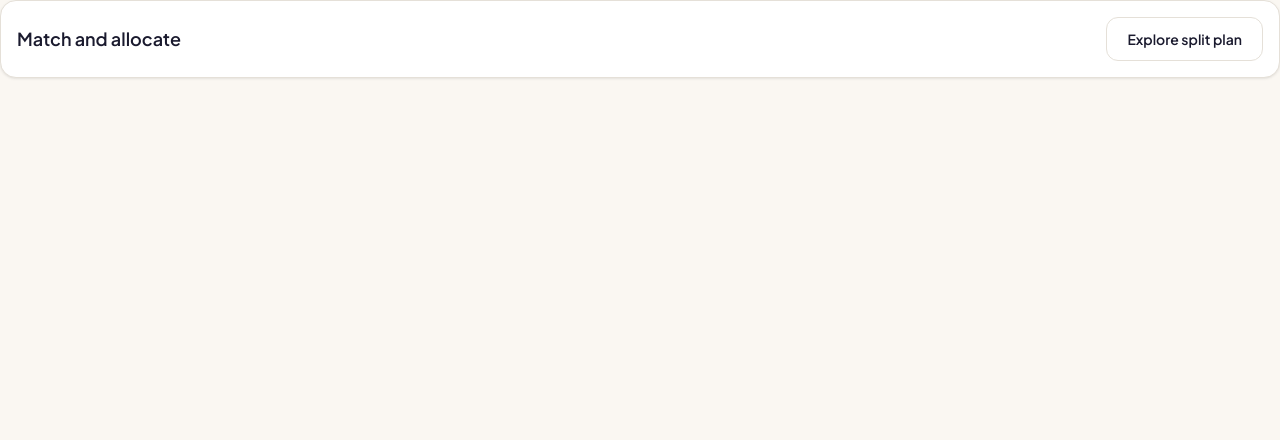
Test: Allocation puzzle controls › splits a batch across capable receivers and selects them together
Click the button "Explore split plan" at (1185, 39), box [1106, 17, 1263, 61]
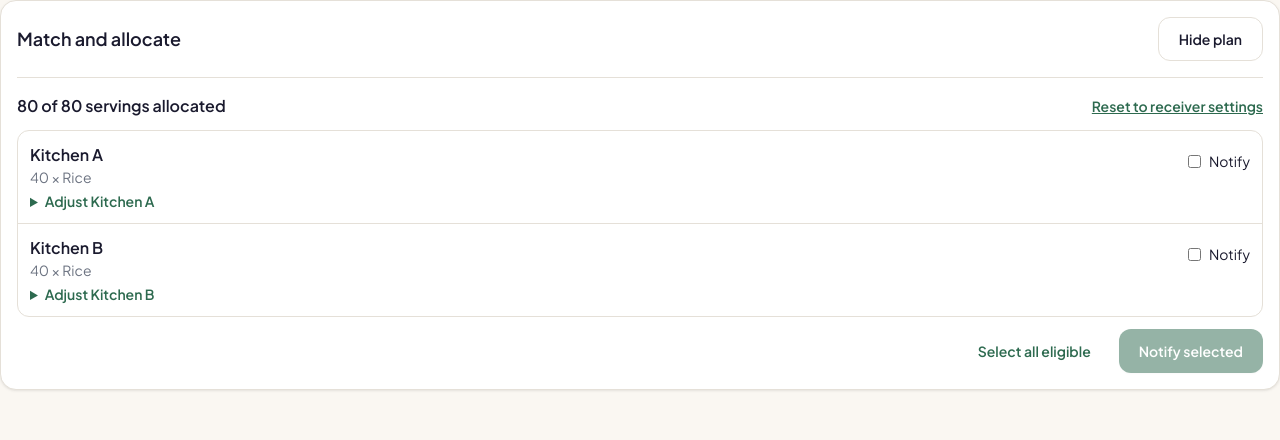
Click the button "Select all eligible" at (1034, 351), box [958, 329, 1111, 373]
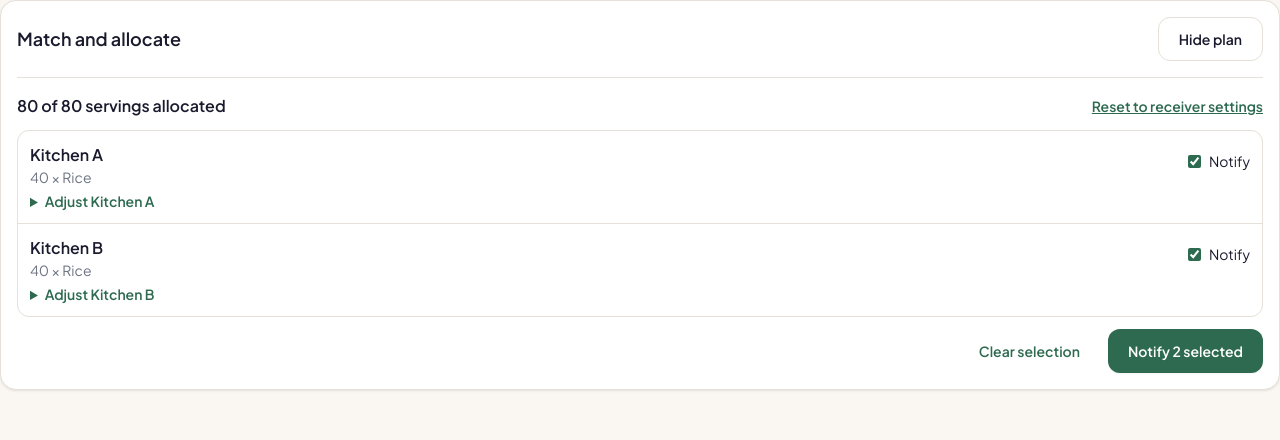
Click the button "Notify 2 selected" at (1185, 351), box [1108, 329, 1263, 373]
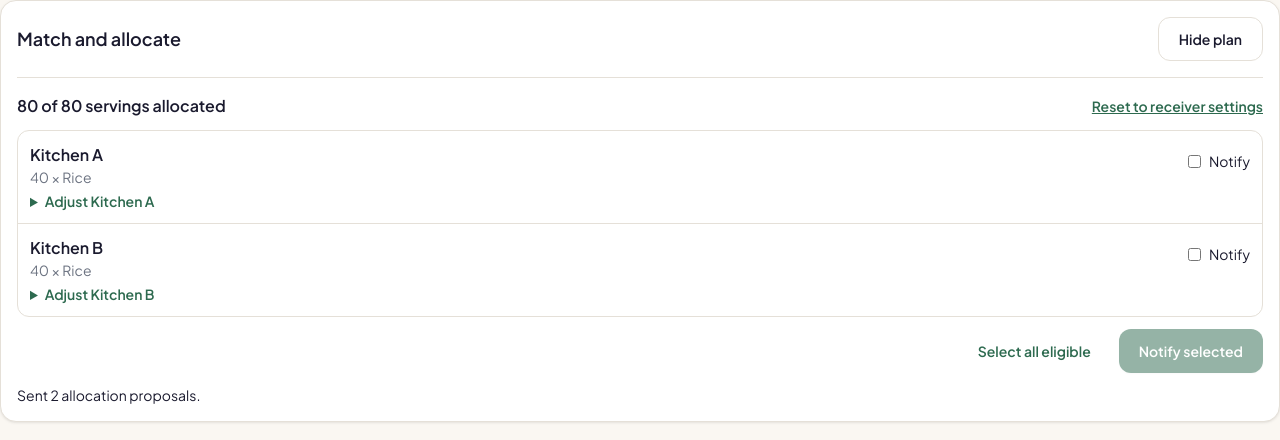
Expected: the text "Sent 2 allocation proposals." is shown, [17, 386, 200, 404]
